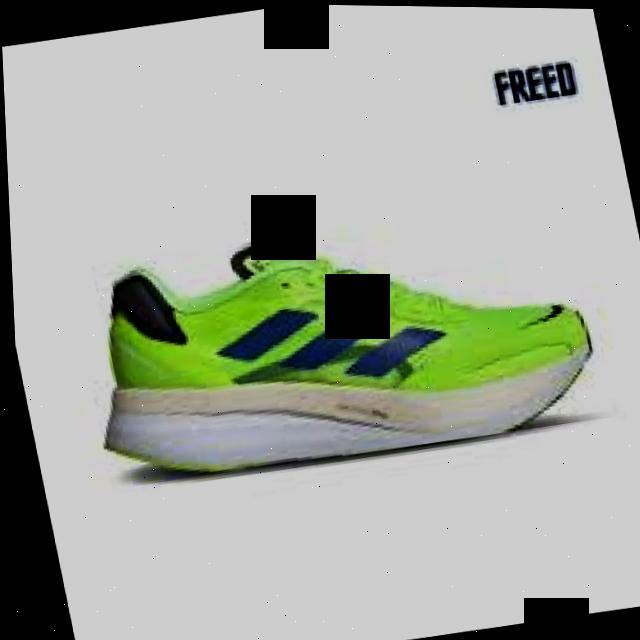shoe: (50, 184, 616, 497)
